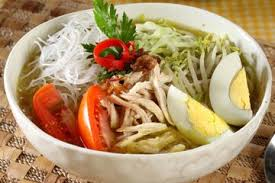soto: (7, 1, 262, 171)
